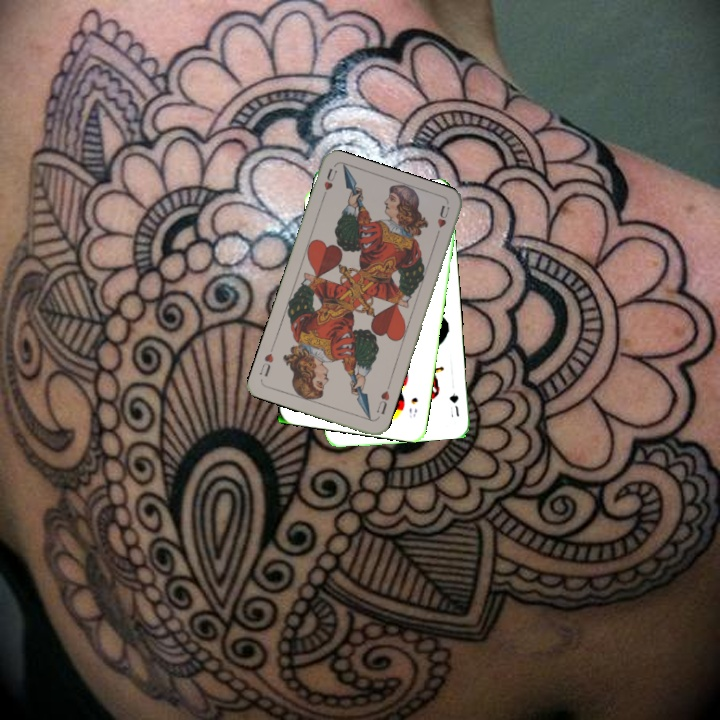GU: (446, 389, 462, 419)
HU: (317, 164, 340, 203), (372, 387, 392, 417)
S8: (405, 393, 420, 420)
